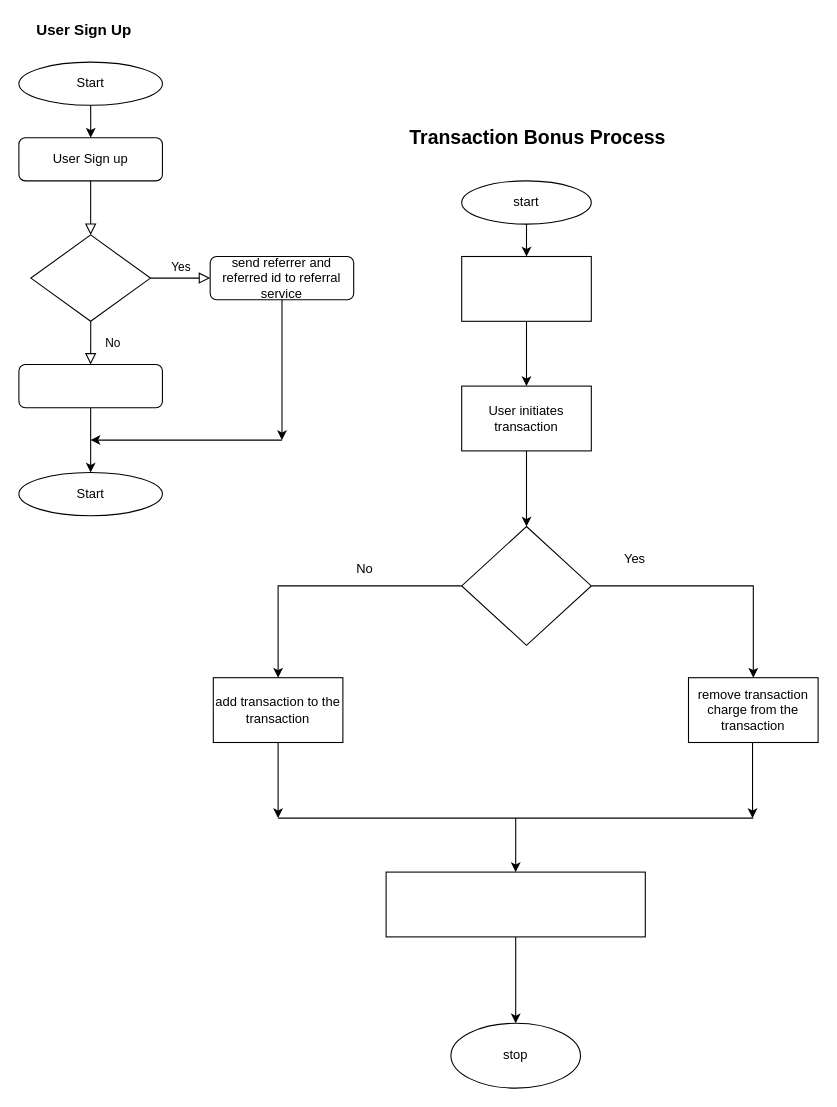
Some shapes in this 837 by 1107 pixel diagram are drawn without their labels. The shapes that lost their labels are listed below. From the top down, each one's centre as x and y in pixels, then its label:
point 90,277: is sign-up by referral?
point 526,288: user sign-in to the platform
point 90,385: Generate Membership/Referral number on UMS
point 526,585: does user have unused bonus?
point 515,904: Perform transaction and populate records on the payment and referral services
